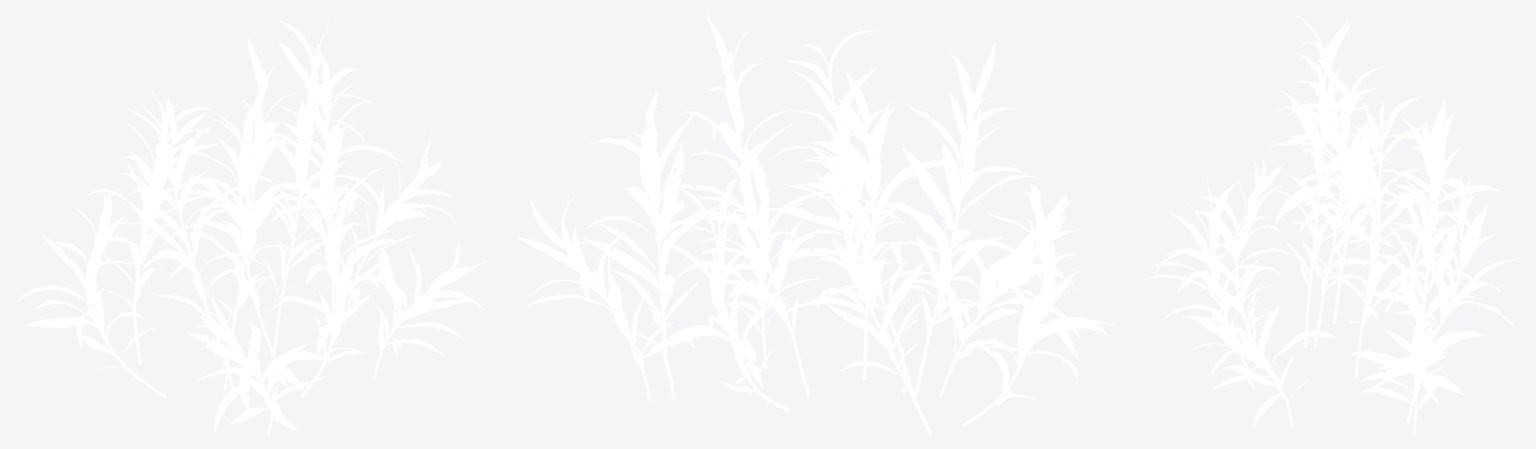
The picture shows the model from 3 angles, left to right: view 1: azimuth 30°, elevation 25°; view 2: azimuth 150°, elevation 25°; view 3: azimuth 270°, elevation 25°; orthographic projection. The views are drawn at different scales.
Parts seen in each view (by area): view 1: SM_GF_Red_Bush_01_A_LOD0; view 2: SM_GF_Red_Bush_01_A_LOD0; view 3: SM_GF_Red_Bush_01_A_LOD0.
Part boxes in pixels (x1,y1,x2,y2): SM_GF_Red_Bush_01_A_LOD0: (15,15,486,434); SM_GF_Red_Bush_01_A_LOD0: (517,14,1114,434); SM_GF_Red_Bush_01_A_LOD0: (1145,14,1521,434).
Size of the model in its own units: 1.07 by 0.779 by 0.7928.
1 material, 1 textured.
